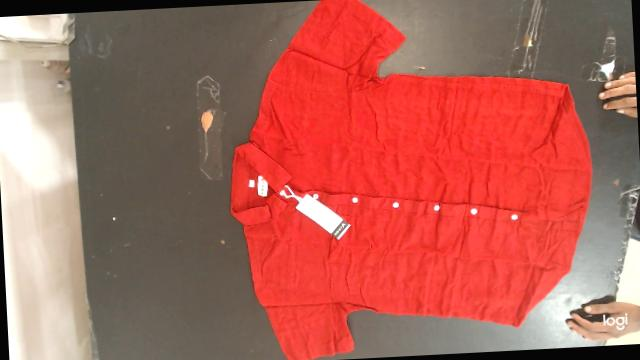new-garment: (230, 0, 591, 360)
